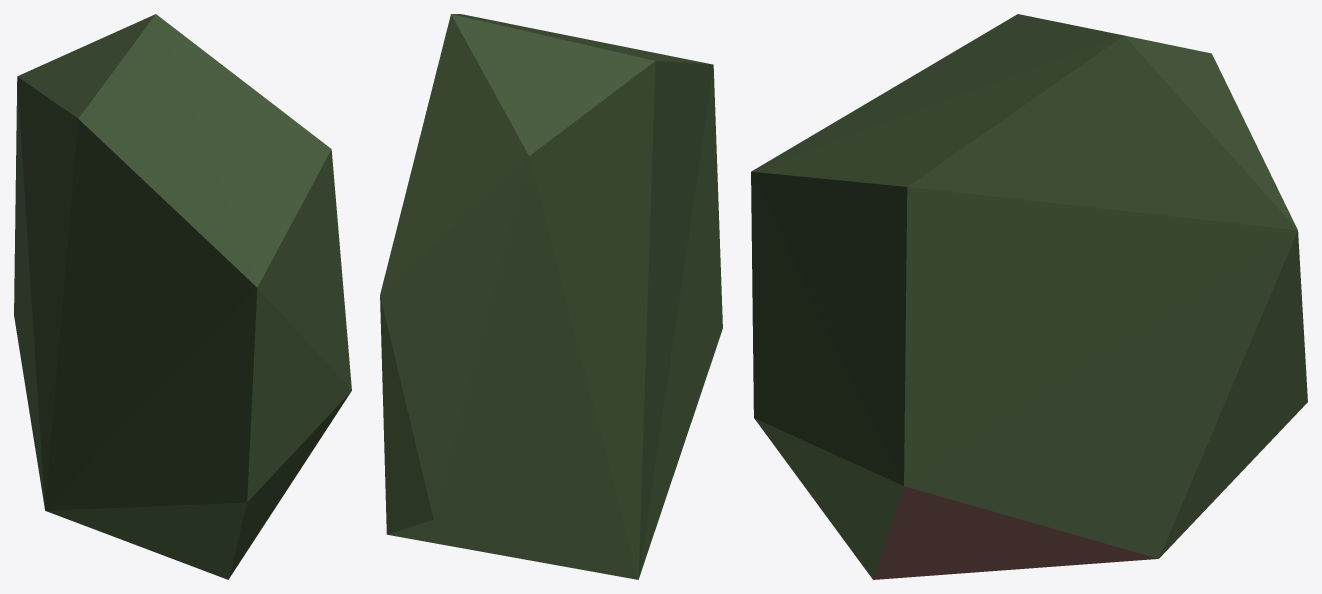
File: Willow_1.lod4.glb
3 renders of one model, left to right at view 1: azimuth 30°, elevation 25°; view 2: azimuth 150°, elevation 25°; view 3: azimuth 270°, elevation 25°, orthographic. The views are drawn at different scales.
Visible parts, largest first — view 1: Willow_1; view 2: Willow_1; view 3: Willow_1.
Boxes of the visible parts, left/top/right/bottom form: Willow_1: left=14, top=14, right=351, bottom=579; Willow_1: left=380, top=14, right=722, bottom=579; Willow_1: left=751, top=14, right=1307, bottom=579.
Bounding box in the file's own units: 1.5 × 2.92 × 2.61.
